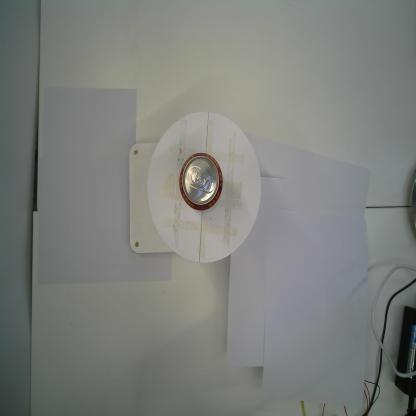Drink: (178, 151, 224, 215)
